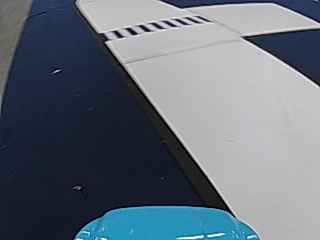CrossWalk: (102, 15, 206, 39)
